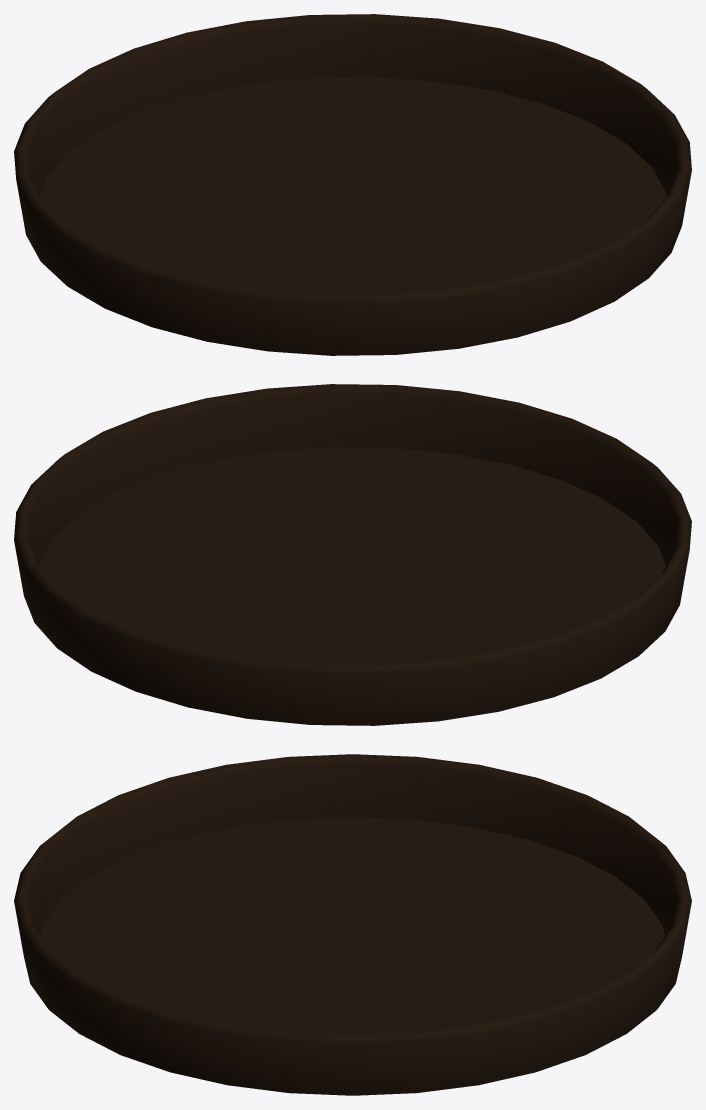
Rendered from Basket_Round_Large.glb.
3 renders of one model, top to bottom at view 1: azimuth 30°, elevation 25°; view 2: azimuth 150°, elevation 25°; view 3: azimuth 270°, elevation 25°, orthographic.
Parts seen in each view (by area): view 1: Basket_Round_Large; view 2: Basket_Round_Large; view 3: Basket_Round_Large.
Part boxes in pixels (x1,y1,x2,y2): Basket_Round_Large: (14,14,691,355); Basket_Round_Large: (14,384,691,725); Basket_Round_Large: (14,754,691,1095).
Bounding box in the file's own units: 0.9886 × 0.1002 × 0.9886.
1 material, 1 textured.
